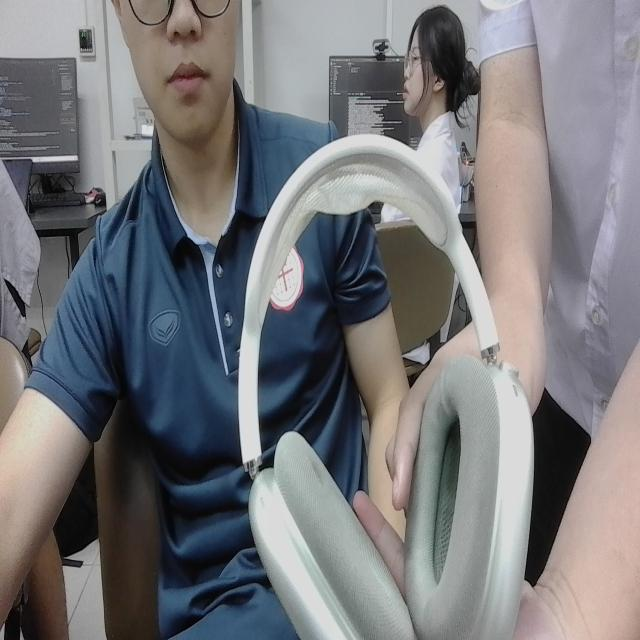airpods max: (222, 115, 539, 640)
